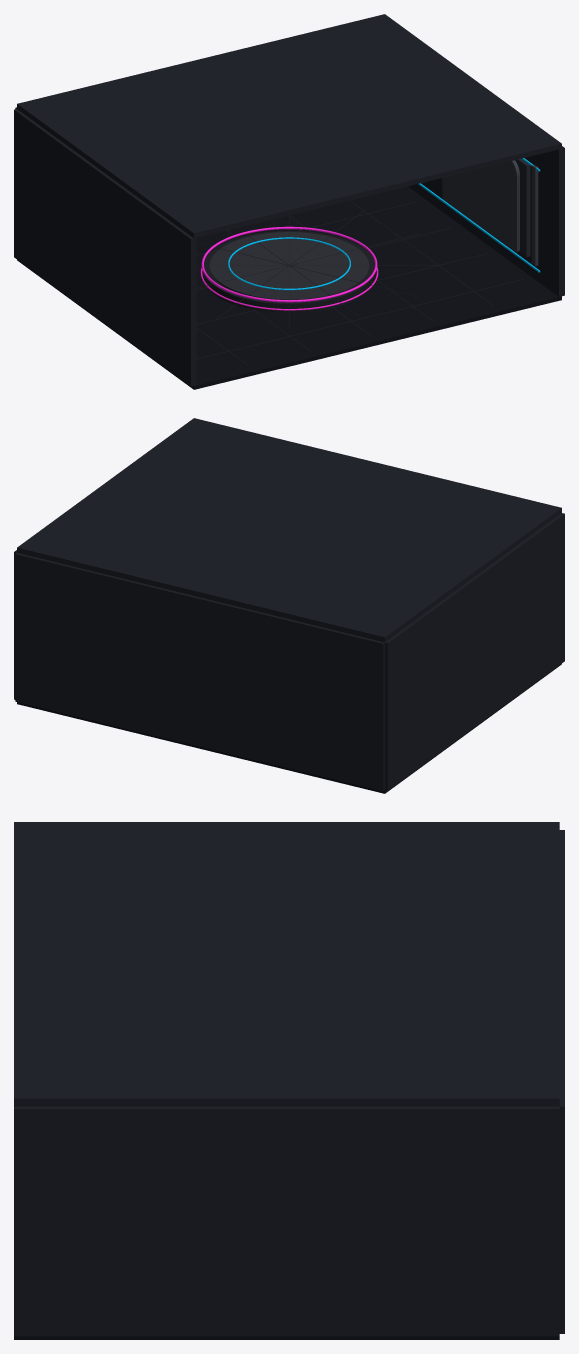
The model's file is garage.glb.
The picture shows the model from 3 angles, top to bottom: view 1: azimuth 30°, elevation 25°; view 2: azimuth 150°, elevation 25°; view 3: azimuth 270°, elevation 25°; orthographic projection. The views are drawn at different scales.
Parts seen in each view (by area): view 1: Room_Ceiling, Room_Glossy_Floor, Room_Left_Wall, Center_Platform_Top, Room_Right_Wall, Right_Side_Alcove_Panel_Outer_Shadow_Block, Center_Platform_Base, Platform_Outer_Pink_Neon_Ring, Right_Alcove_Back_Block, Right_Wall_Front_Vertical_Trim, Platform_Inner_Blue_Neon_Ring, Platform_Underside_Pink_Glow_Ring; view 2: Room_Ceiling, Room_Back_Wall, Room_Left_Wall, Room_Glossy_Floor; view 3: Room_Ceiling, Room_Right_Wall, Room_Back_Wall, Room_Glossy_Floor.
Part boxes in pixels (x1,y1,x2,y2): Room_Ceiling: (17, 14, 561, 238); Room_Glossy_Floor: (17, 186, 561, 389); Room_Left_Wall: (14, 109, 196, 386); Center_Platform_Top: (209, 232, 369, 299); Room_Right_Wall: (408, 146, 564, 296); Right_Side_Alcove_Panel_Outer_Shadow_Block: (442, 160, 519, 252); Center_Platform_Base: (202, 230, 376, 312); Platform_Outer_Pink_Neon_Ring: (201, 226, 377, 302); Right_Alcove_Back_Block: (441, 159, 530, 257); Right_Wall_Front_Vertical_Trim: (531, 165, 538, 265); Platform_Inner_Blue_Neon_Ring: (228, 237, 350, 290); Platform_Underside_Pink_Glow_Ring: (200, 267, 378, 310); Room_Ceiling: (17, 418, 561, 642); Room_Back_Wall: (15, 553, 384, 791); Room_Left_Wall: (385, 513, 564, 790); Room_Glossy_Floor: (17, 664, 561, 793); Room_Ceiling: (14, 822, 559, 1106); Room_Right_Wall: (14, 1106, 559, 1336); Room_Back_Wall: (559, 830, 564, 1333); Room_Glossy_Floor: (14, 1336, 559, 1339).
Size of the model in its own units: 12.2 by 4.88 by 10.1.
